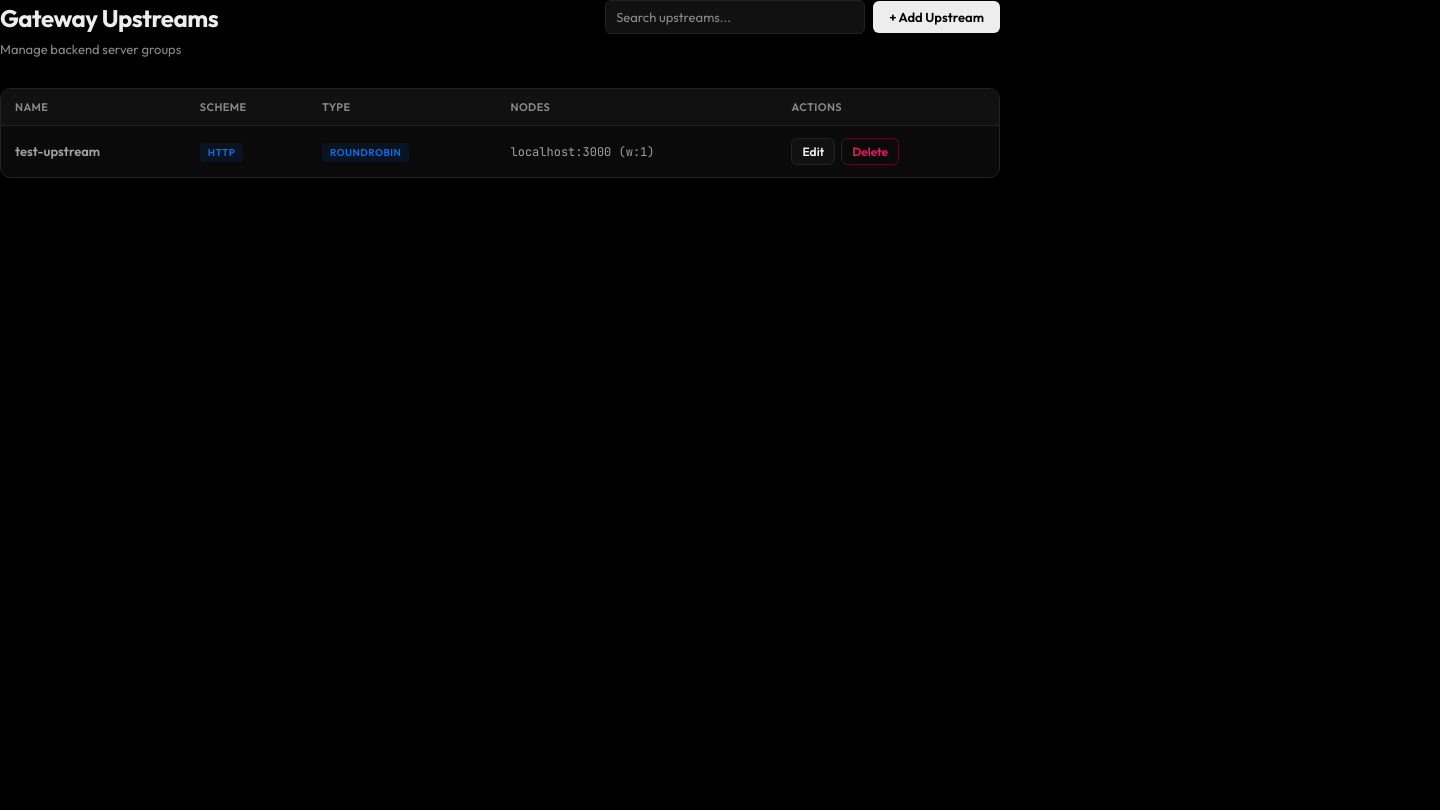
Test: GatewayUpstreams › opens edit modal on edit button click
expect the text "test-upstream" is shown: met, box [1,126,186,177]
Click the button with aria-label "Edit upstream test-upstream": [813, 152] box [791,138,835,165]
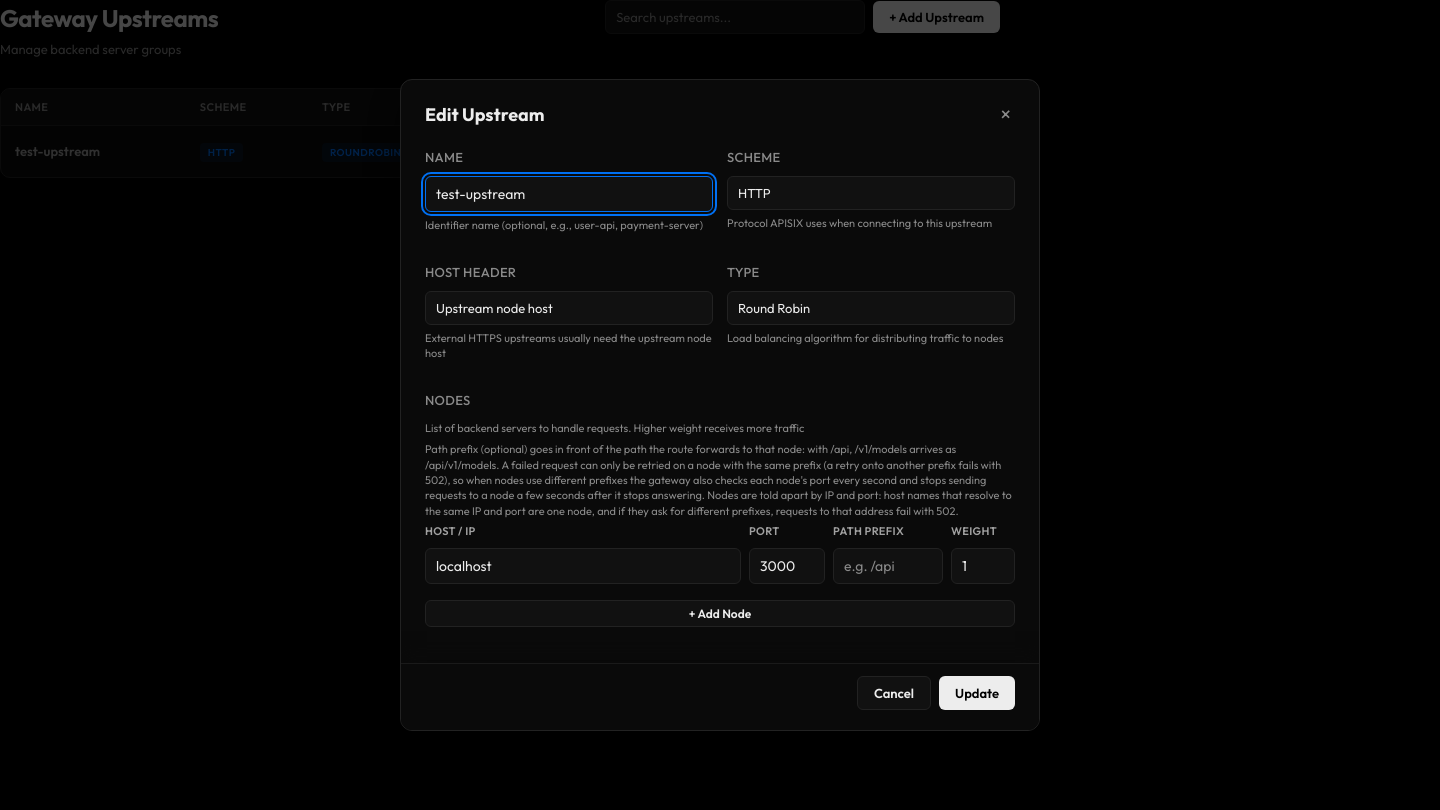
expect the heading "Edit Upstream" is shown: met, box [425,101,544,128]
